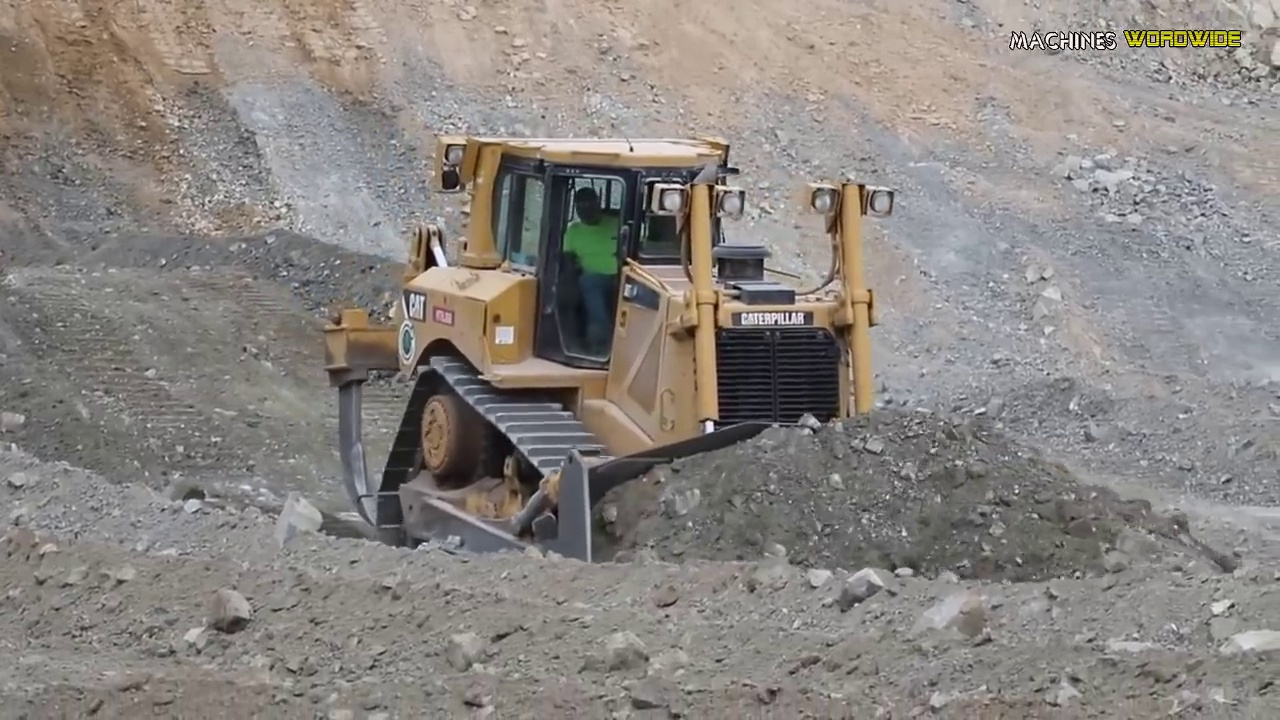bulldozer: (331, 122, 945, 568)
